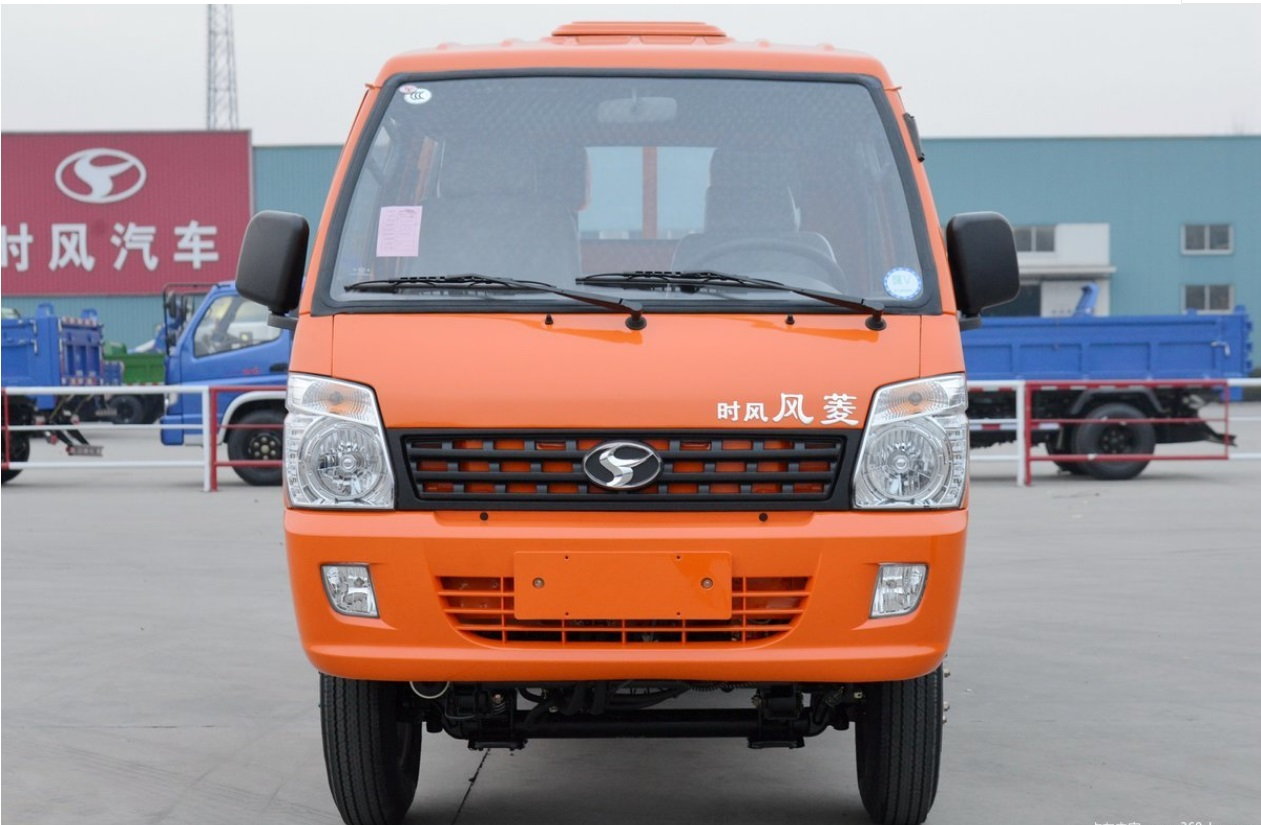truck: (233, 18, 1023, 825)
